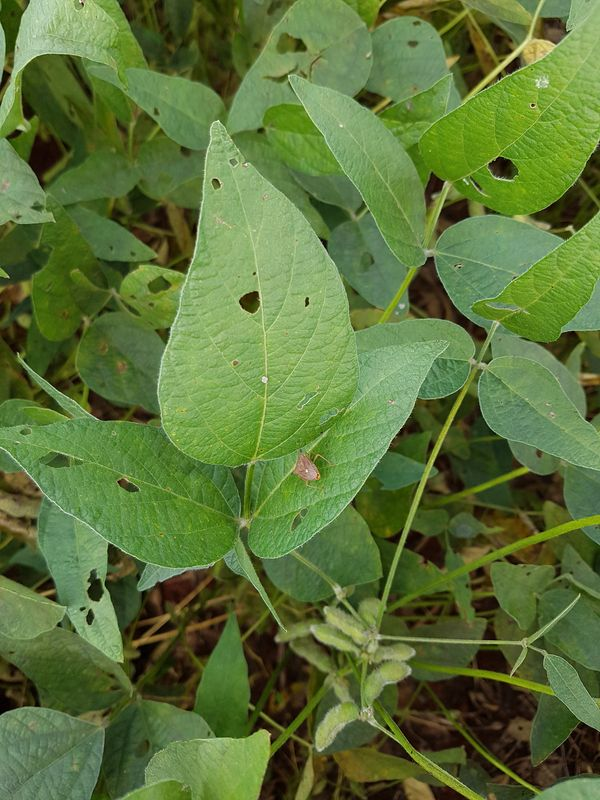Euschistus_heros_adulto: (280, 442, 343, 497)
